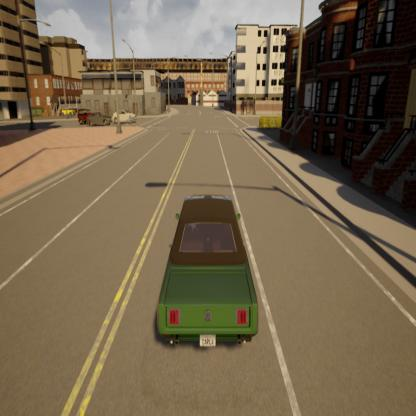Cars: (148, 191, 262, 357), (110, 100, 140, 128), (86, 108, 113, 126), (75, 100, 95, 123), (58, 105, 77, 116)
